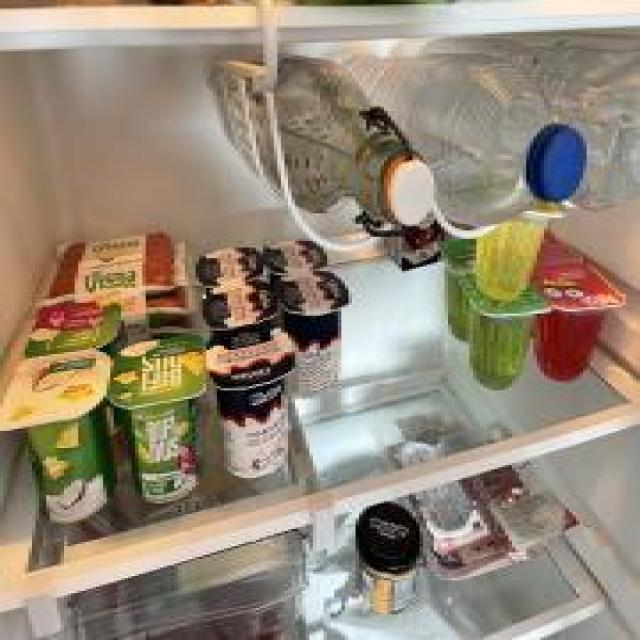sausage: (50, 231, 188, 304)
yogurt: (0, 348, 117, 527), (110, 333, 210, 508), (208, 329, 297, 480), (278, 274, 348, 402), (32, 307, 121, 358), (201, 285, 279, 327), (260, 236, 324, 280), (198, 247, 262, 286)
